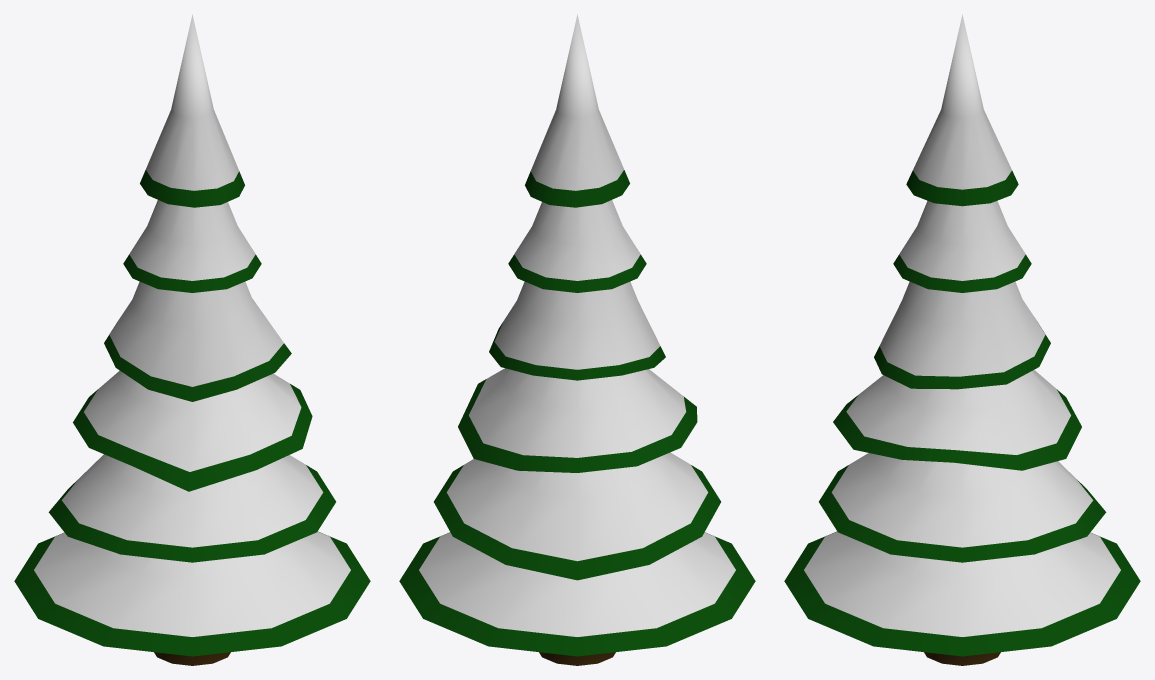
Rendered from Tree1.fbx.
The picture shows the model from 3 angles, left to right: view 1: azimuth 30°, elevation 25°; view 2: azimuth 150°, elevation 25°; view 3: azimuth 270°, elevation 25°; orthographic projection.
Visible parts, largest first — view 1: pCylinder28; view 2: pCylinder28; view 3: pCylinder28.
Part boxes in pixels (x1,y1,x2,y2): pCylinder28: [14, 14, 370, 665]; pCylinder28: [399, 14, 755, 665]; pCylinder28: [784, 14, 1140, 665].
Bounding box in the file's own units: 8.72 × 17.14 × 8.72.
